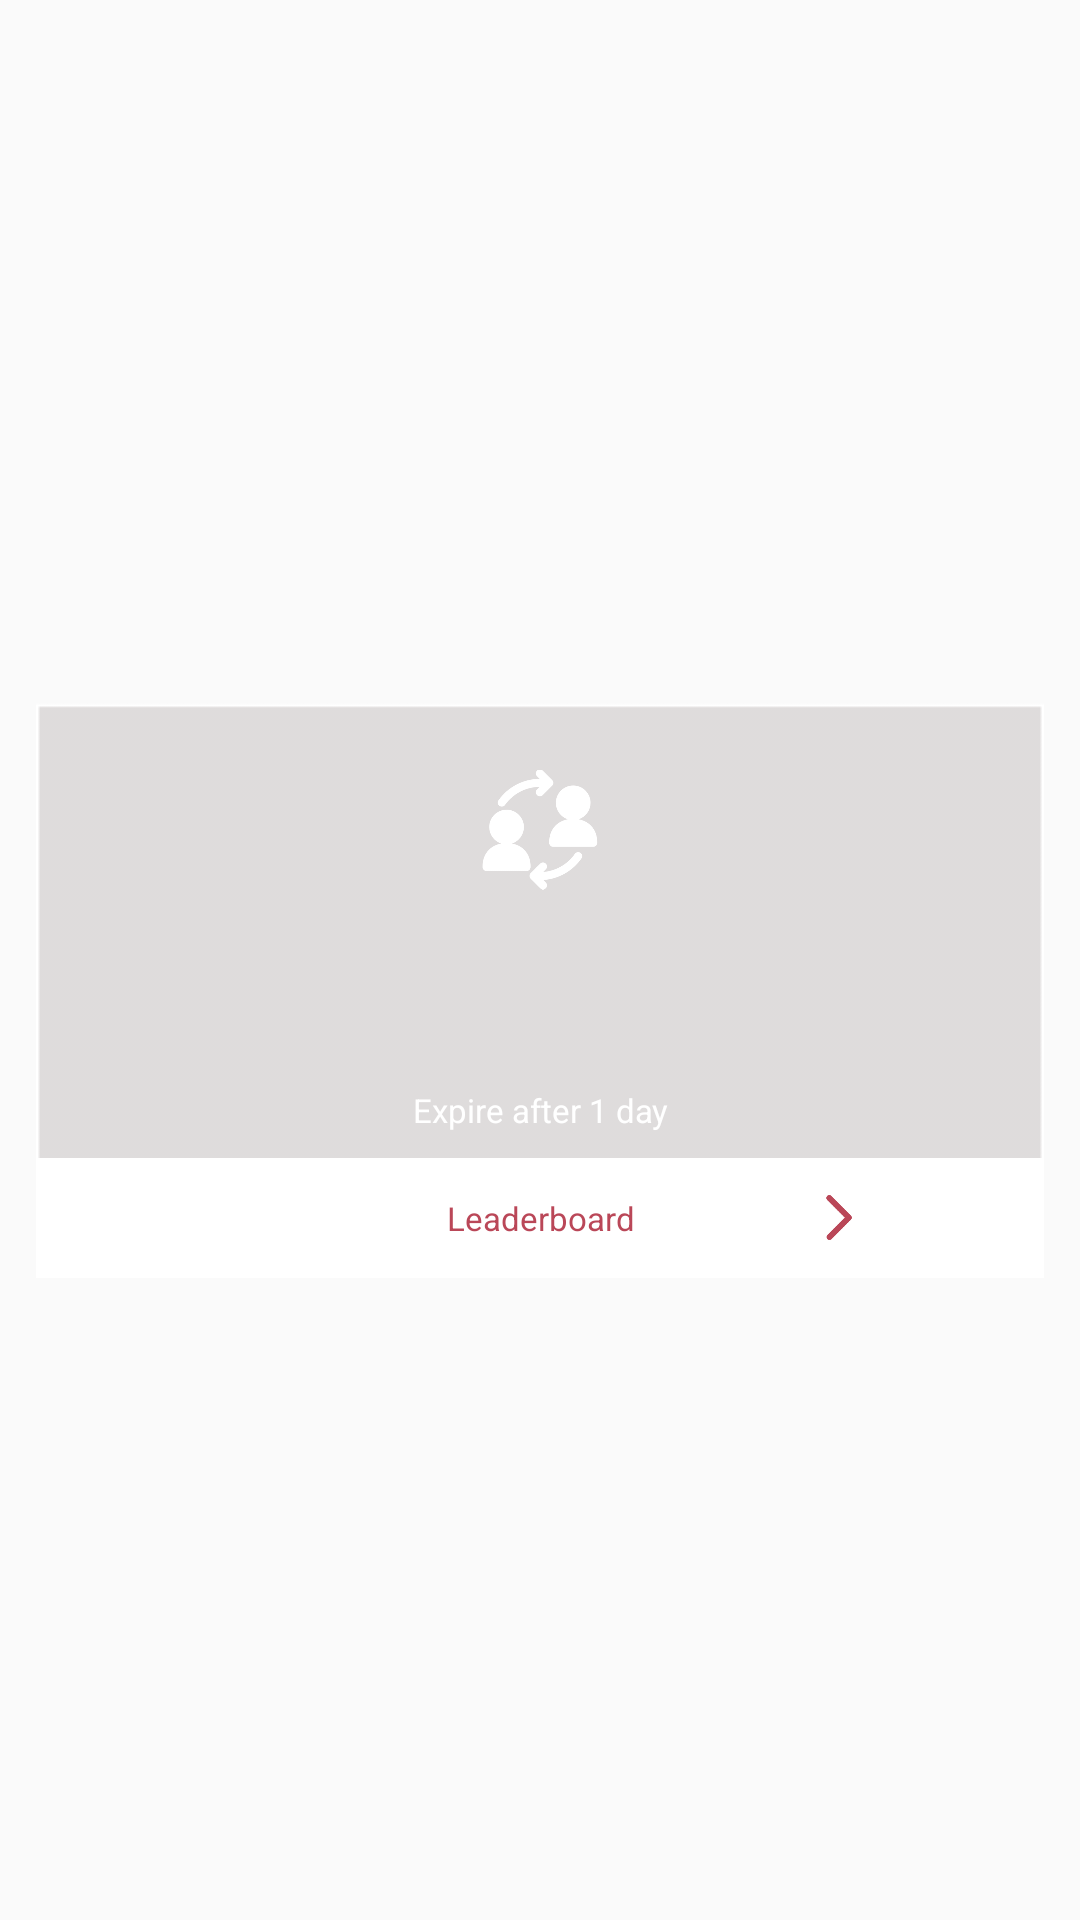

Icon bounding boxes for this 1080 x 1920 phone screenshot, format (x1, y1, x2, y2):
sub social: (483, 770, 597, 890)
